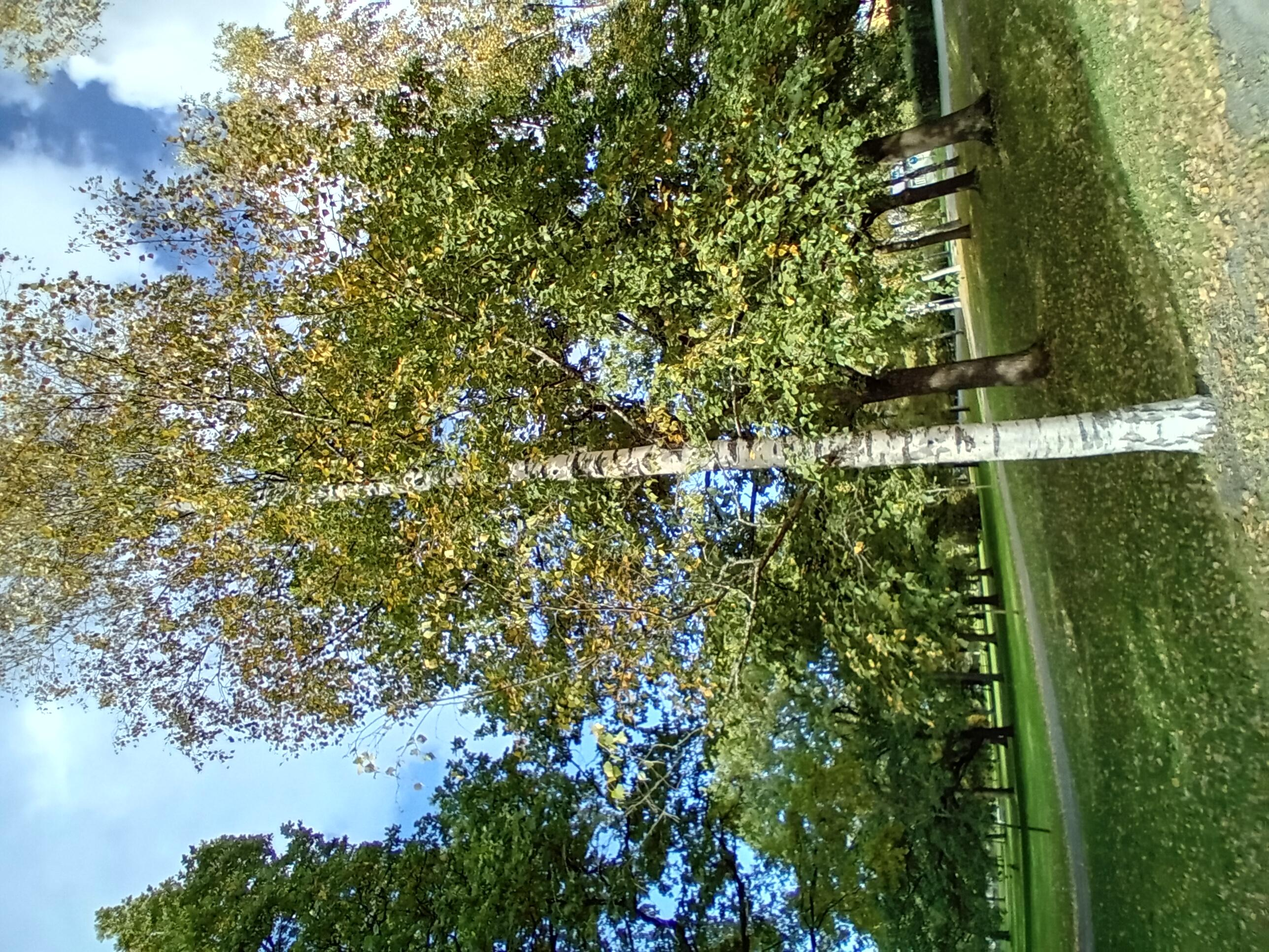Birch: (202, 0, 1264, 915), (263, 0, 980, 919)
